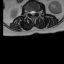CCS_normal: (32, 9, 33, 18)
LFS_stenosis: (35, 9, 37, 15)
LLS_normal: (33, 9, 35, 16)
RFS_normal: (28, 9, 30, 15)
RLS_normal: (30, 9, 32, 16)
